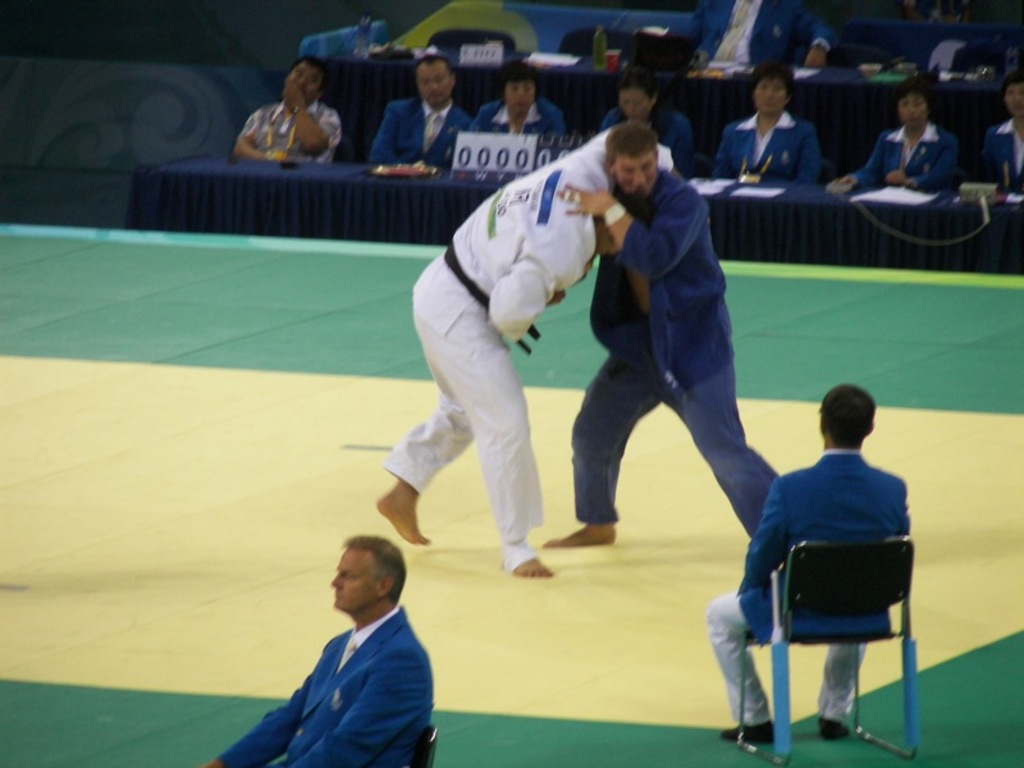Person: (229, 53, 1024, 190), (841, 80, 963, 191), (715, 63, 819, 185), (368, 49, 470, 165), (685, 0, 837, 67), (602, 65, 694, 174), (474, 61, 569, 165), (976, 72, 1024, 195)
